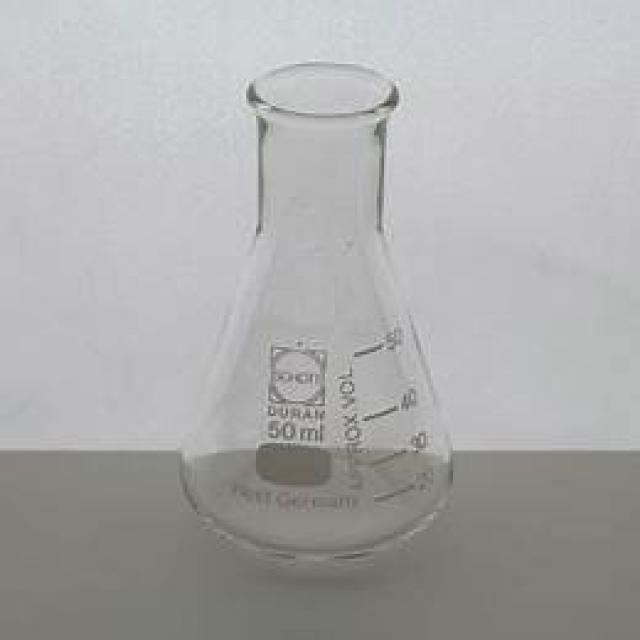Titrarion: (174, 49, 459, 565)
